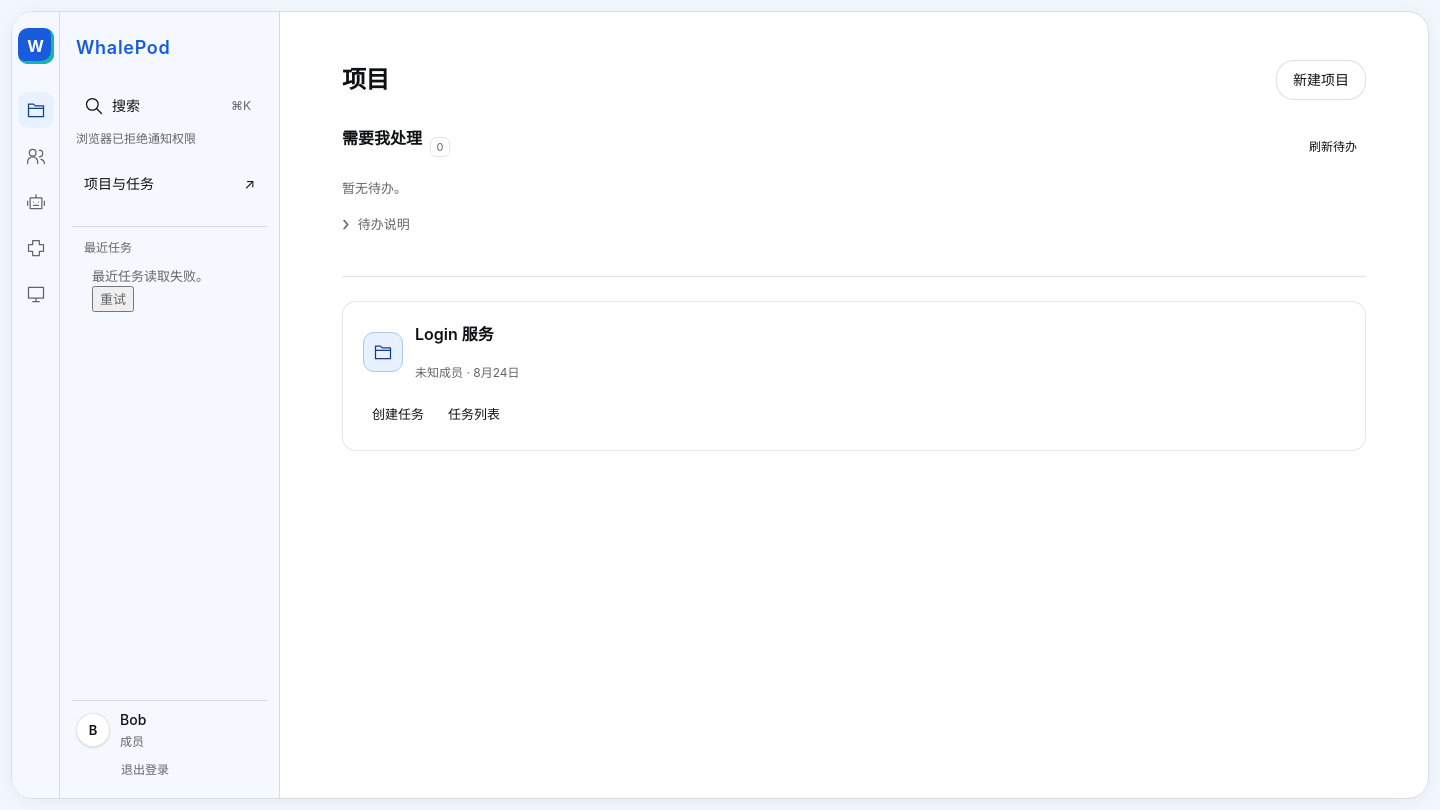
⌘K 三类实体搜索（#263） › 三段齐出；↑↓ 跨段走到项目项；Enter 落到项目页并把目标卡片标出来
The image size is (1440, 810).
Check: the navigation bar named "主导航" is shown, box [12,12,60,798]
Type keys "{Meta>}k"
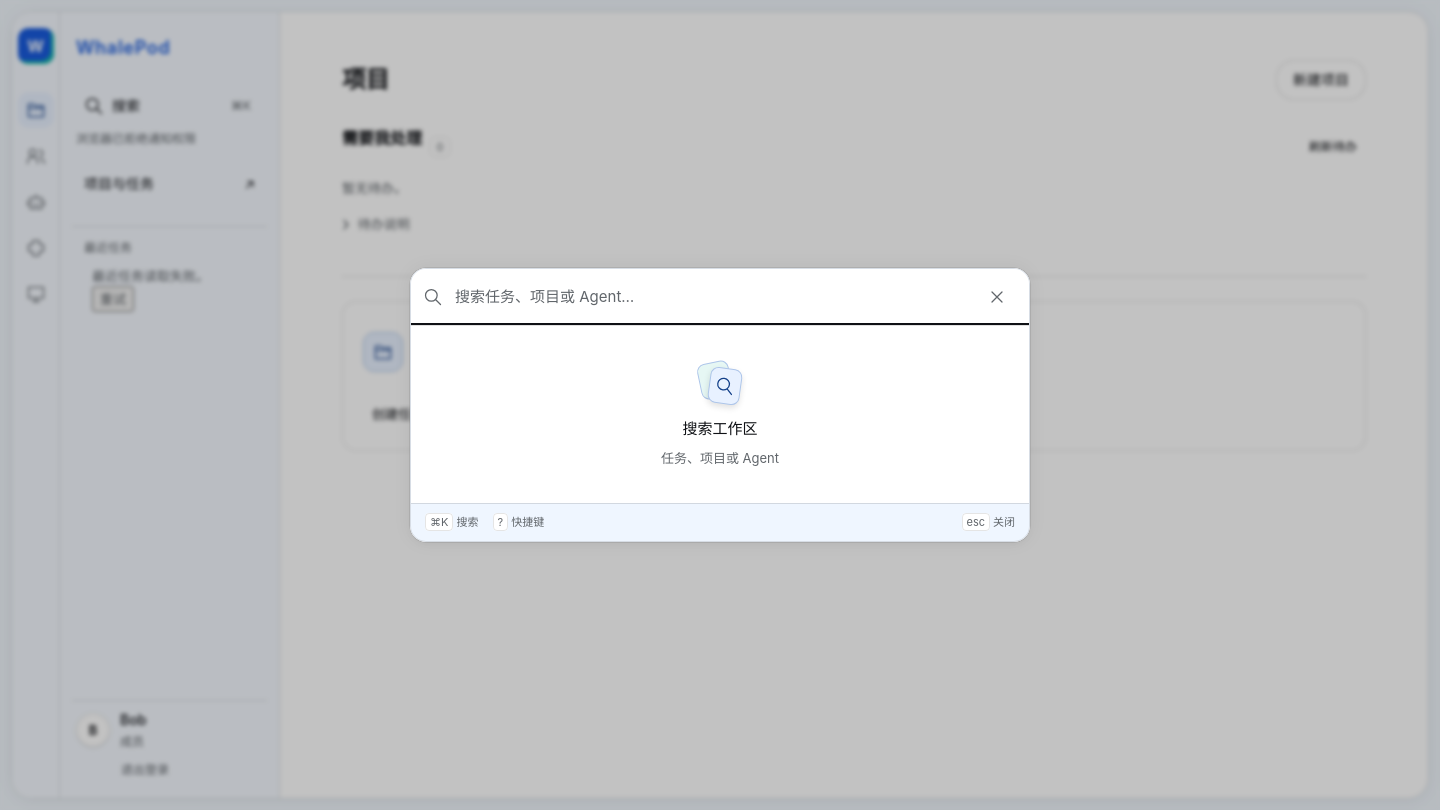
Type "login" into the field named "搜索关键词".
click(710, 297); type("login")  # box [455,277,965,317]
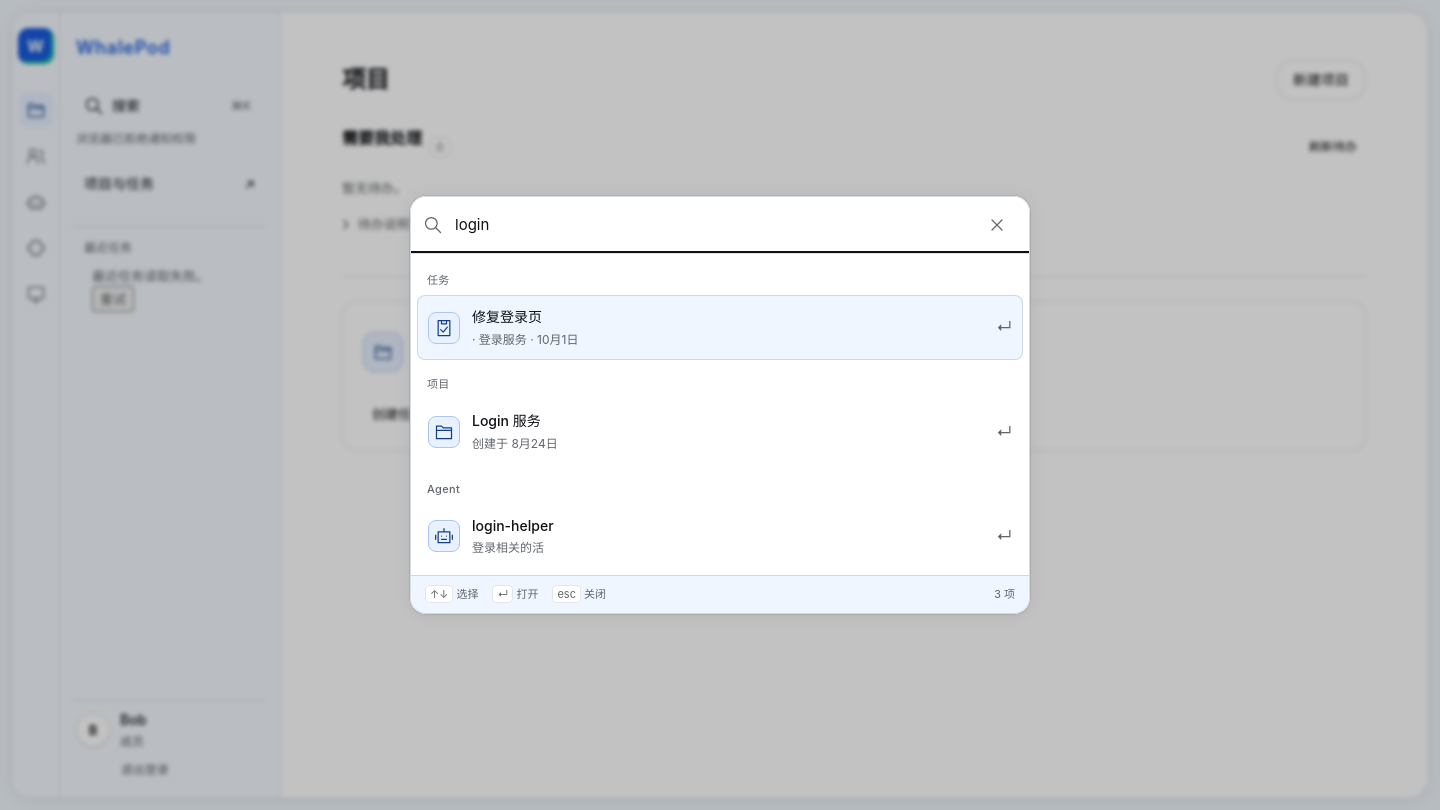
Check: the text "任务" is shown, box [427,273,450,287]
Check: the text "项目" is shown, box [427,377,450,391]
Check: the text "Agent" is shown, box [427,482,460,496]
扁平序列：任务 → 项目 → Agent；↓ 一次走到项目项，Enter 落到项目页。
Press Arrowdown
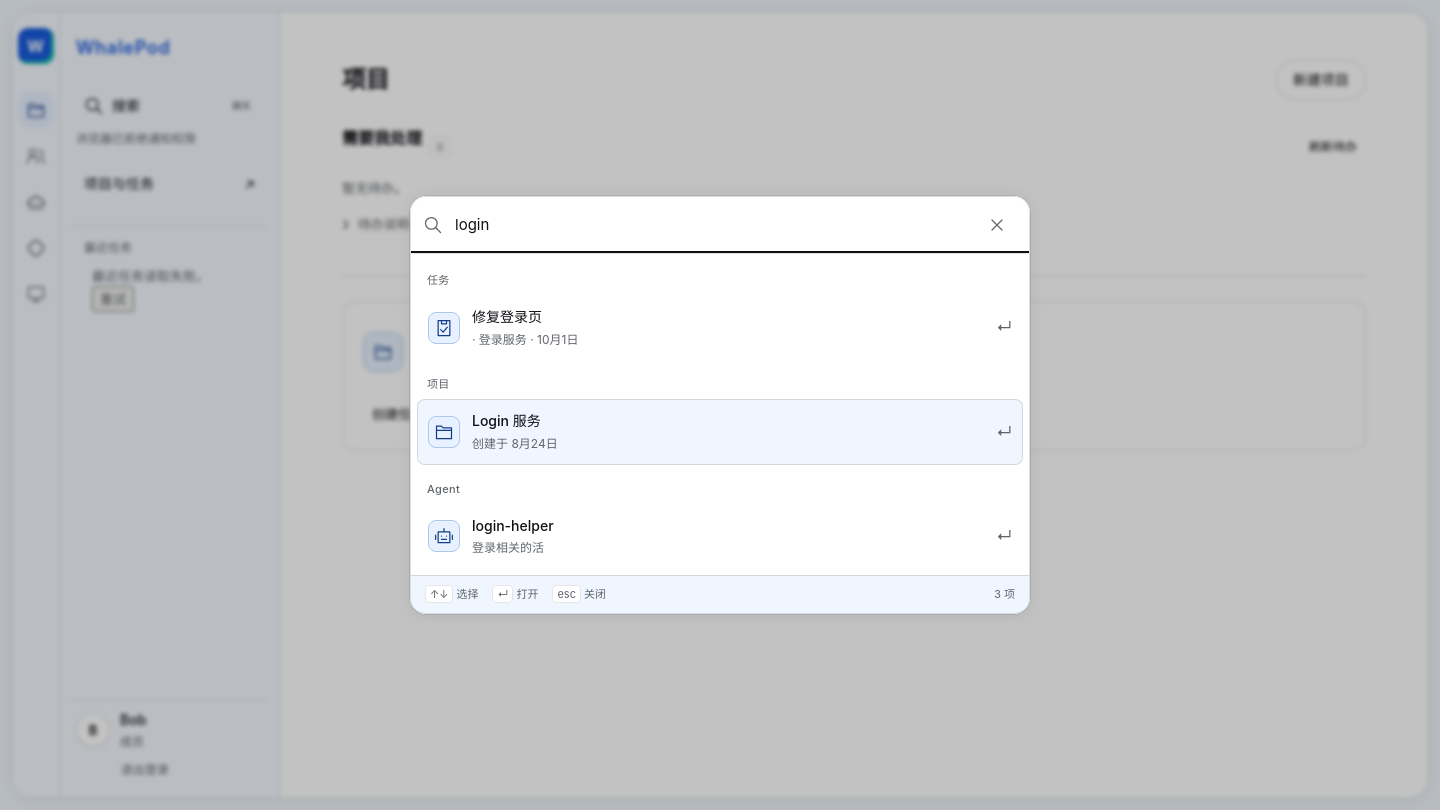
Press Enter
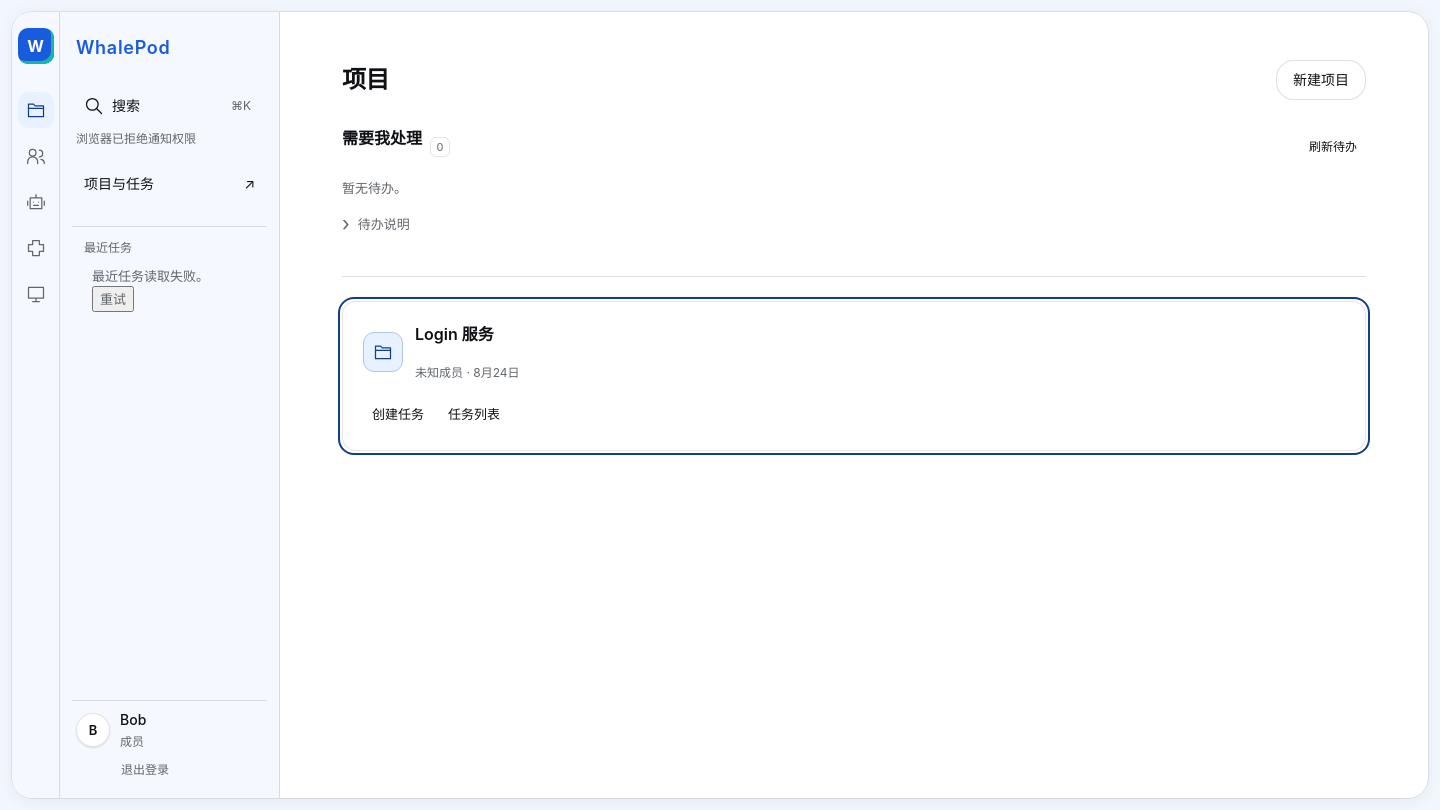
Check: the heading "Login 服务" is shown, box [415,324,494,344]
Check: the dialog "全局搜索" is gone
